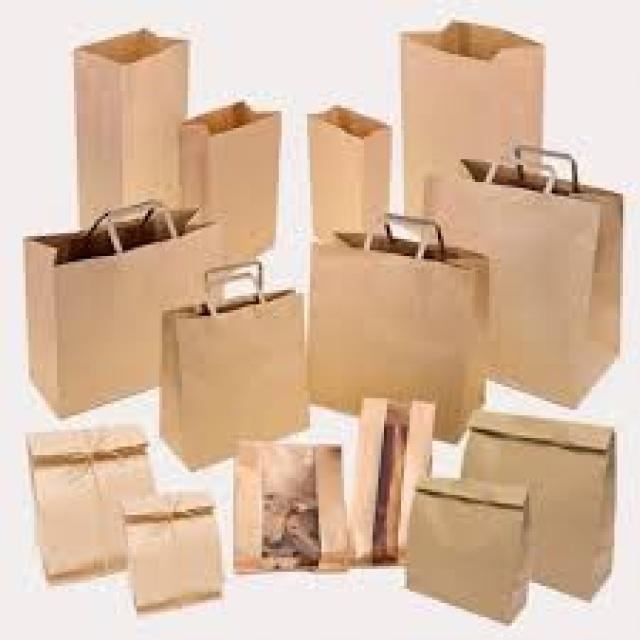paper bag: (432, 141, 629, 410), (300, 212, 495, 446), (23, 197, 223, 421), (154, 257, 308, 475), (402, 474, 535, 624)
